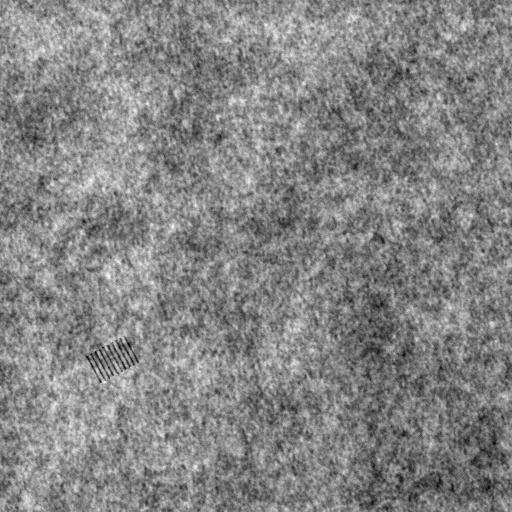DefectTypeB: (87, 337, 140, 380)
